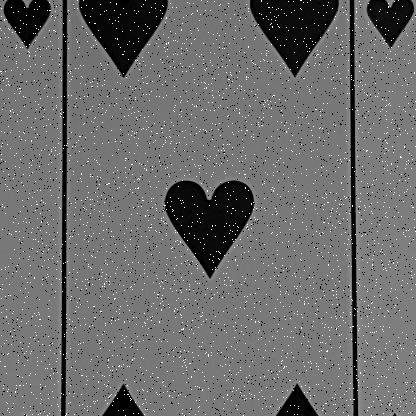5h: (0, 0, 76, 63), (353, 0, 415, 67)
